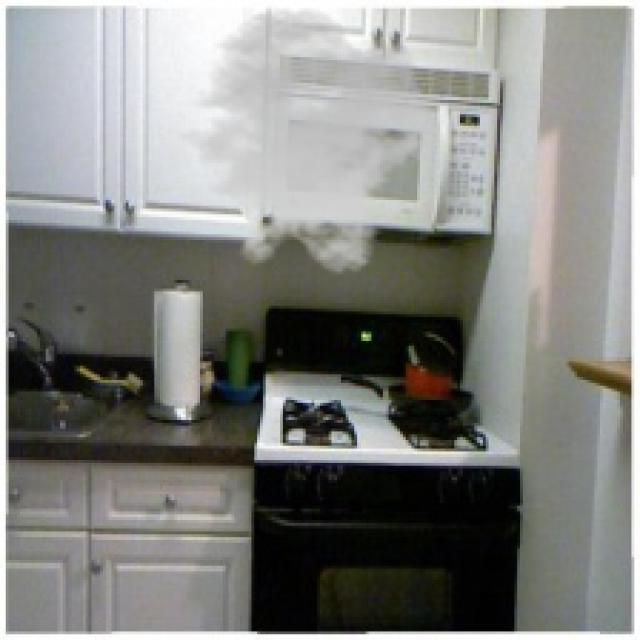Smoke: (163, 6, 443, 278)
